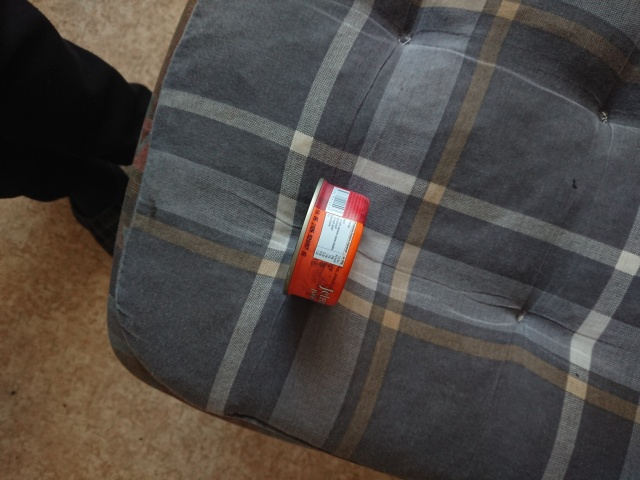Gavrilovic Pork Liver Pate 100g: (280, 175, 372, 311)
